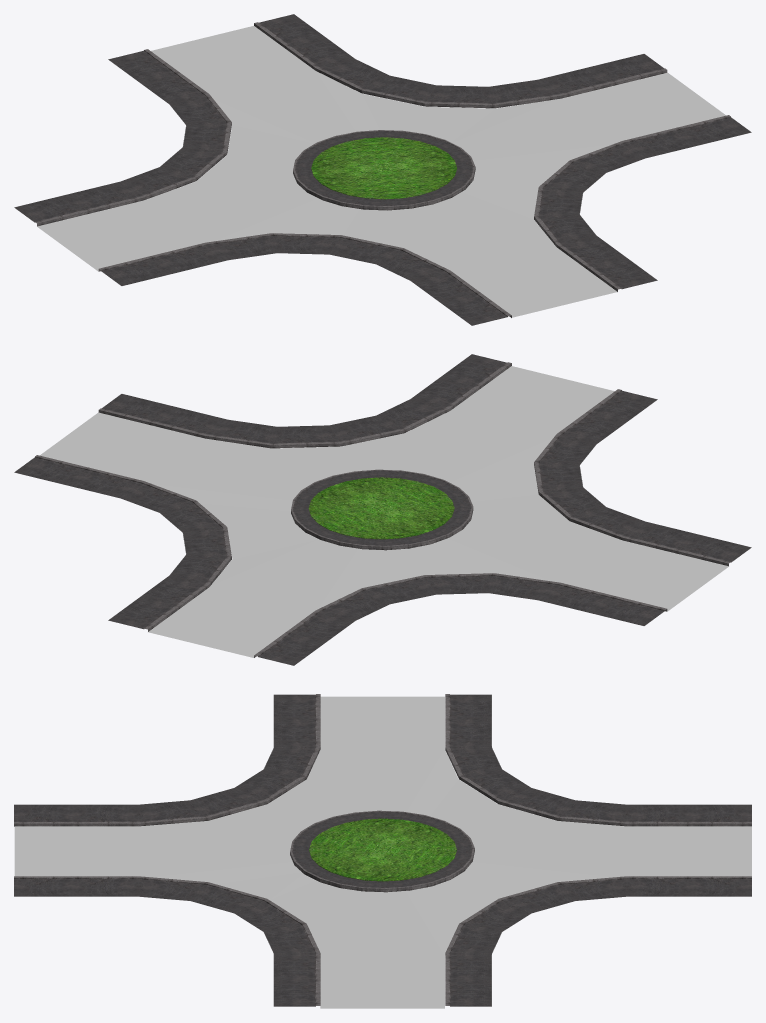
File: round about 2 lines_mobile.FBX
The picture shows the model from 3 angles, top to bottom: view 1: azimuth 30°, elevation 25°; view 2: azimuth 150°, elevation 25°; view 3: azimuth 270°, elevation 25°; orthographic projection.
Parts seen in each view (by area): view 1: Object189; view 2: Object189; view 3: Object189.
Part boxes in pixels (x1,y1,x2,y2): Object189: (14,14,751,325); Object189: (14,354,751,665); Object189: (14,694,751,1008).
Size of the model in its own units: 71.05 by 0.5416 by 71.
